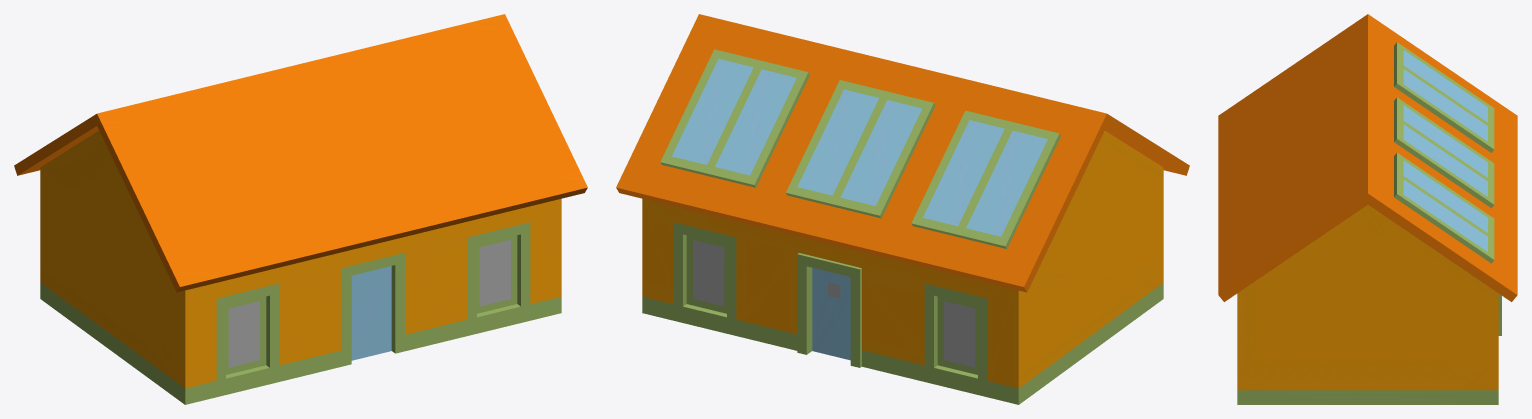
The model's file is house_type01.fbx.
3 views of the same model, side by side, from view 1: azimuth 30°, elevation 25°; view 2: azimuth 150°, elevation 25°; view 3: azimuth 270°, elevation 25° (orthographic). The views are drawn at different scales.
Parts seen in each view (by area): view 1: house_type01; view 2: house_type01; view 3: house_type01.
Boxes of the visible parts, bbox=[...] form: house_type01: bbox=[14, 14, 587, 404]; house_type01: bbox=[616, 14, 1189, 404]; house_type01: bbox=[1218, 14, 1517, 404].
Bounding box in the file's own units: 13 × 7.38 × 9.16.
1 material, 1 textured.
